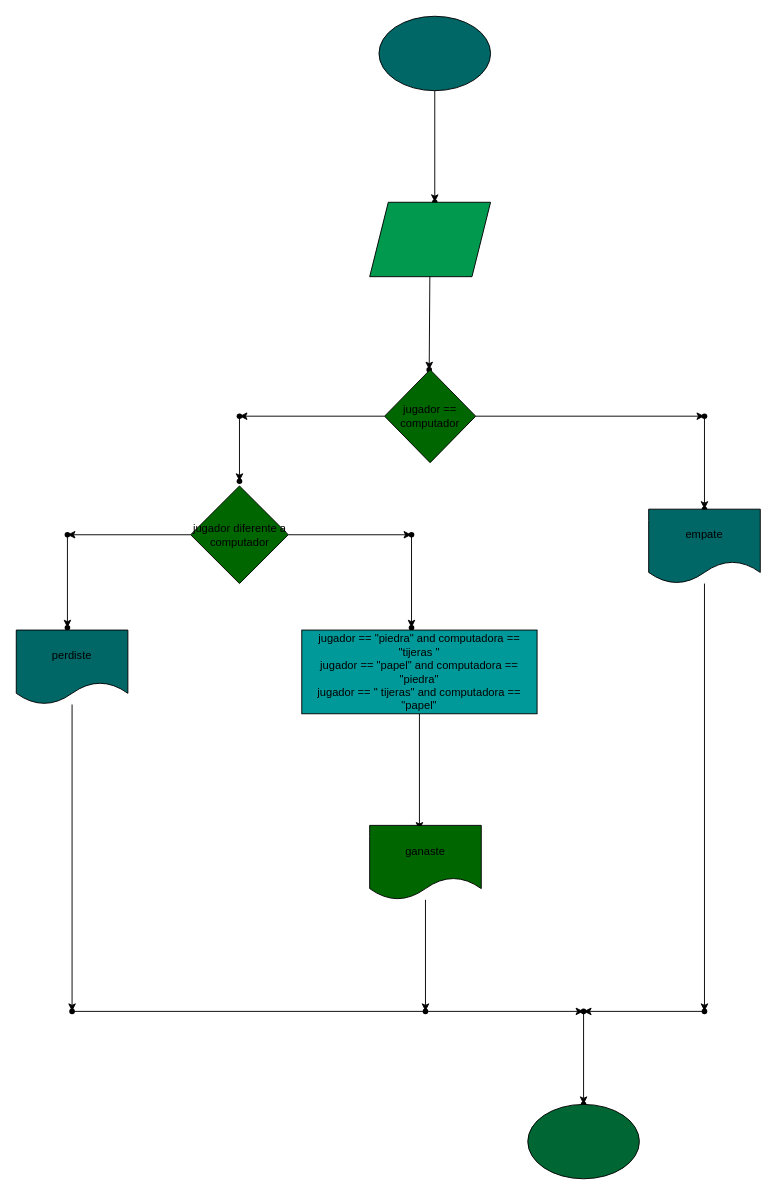
This 777x1195 diagram has some shape labels left out. The centre of each missing label's shape, as x and y in pixels:
FIN: pixel 583 1141
INICIO: pixel 434 53
piedra , papel , tijera: pixel 430 239
